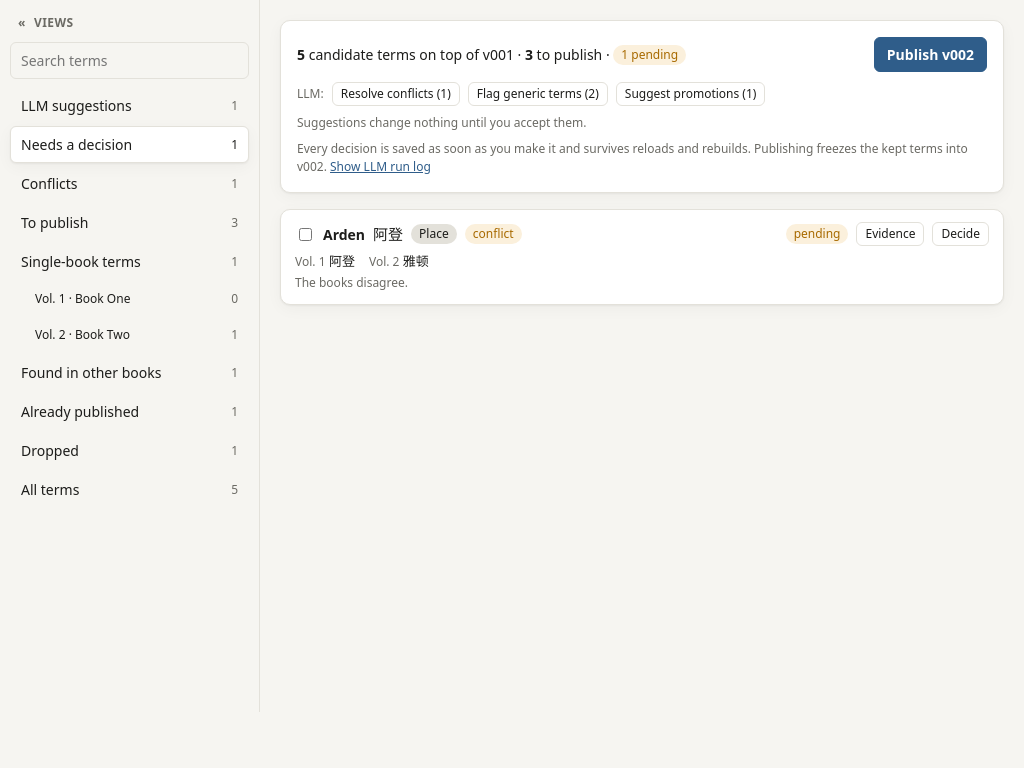
Test case: Series workbench › views › searches the current view by source, ignoring case, or by translation
The image size is (1024, 768).
expect the text "5 candidate terms on top of v001 · 3 to publish · 1 pending" is shown: met, box [297, 44, 686, 65]
Click the button "All terms 5": (130, 490) [10, 471, 249, 508]
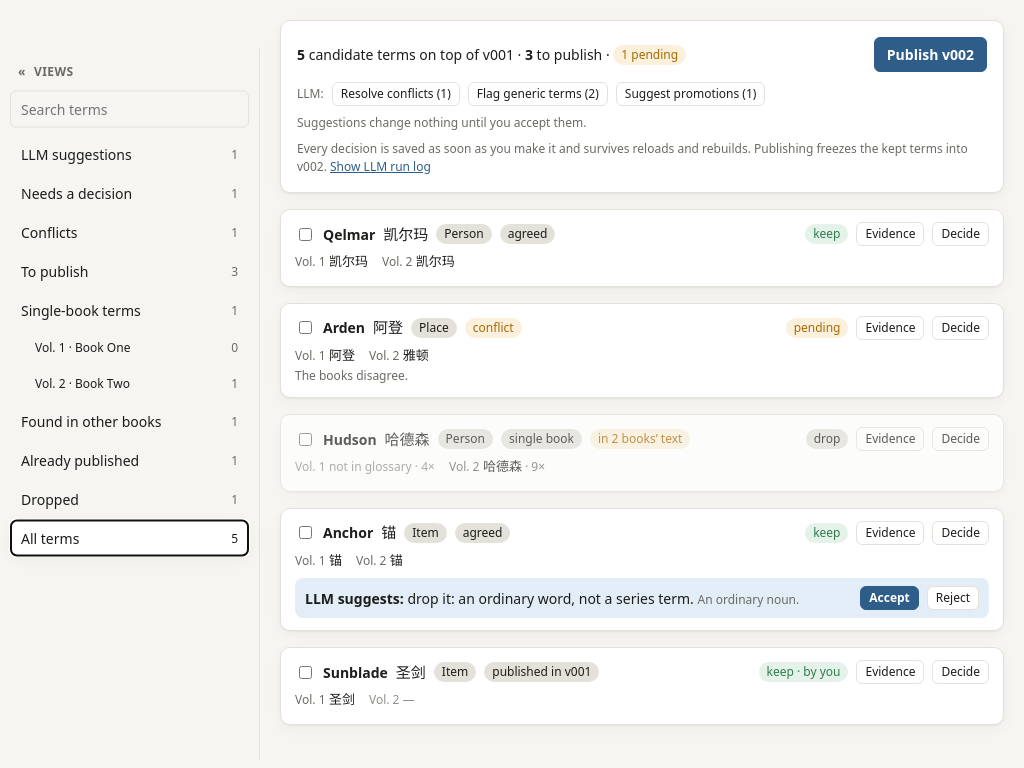
In the field with placeholder "Search terms": (130, 109) [10, 90, 249, 128], type "  qEl "
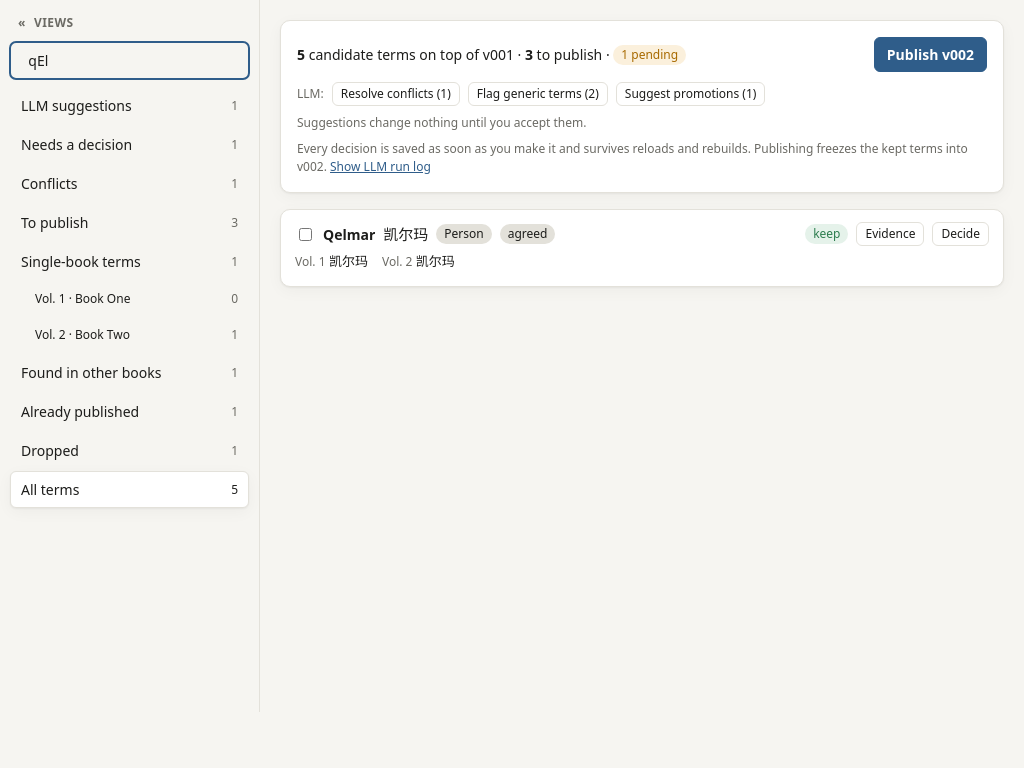
Clear the field with placeholder "Search terms": (130, 60) [10, 42, 249, 79]
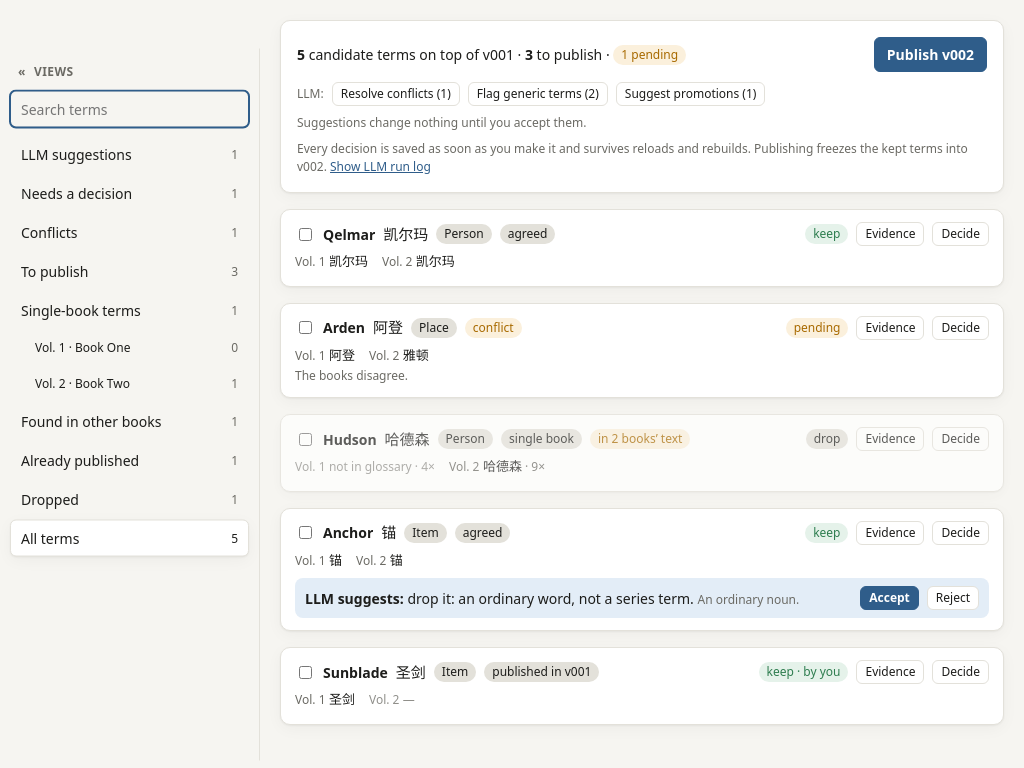
In the field with placeholder "Search terms": (130, 109) [10, 90, 249, 128], type "圣剑"
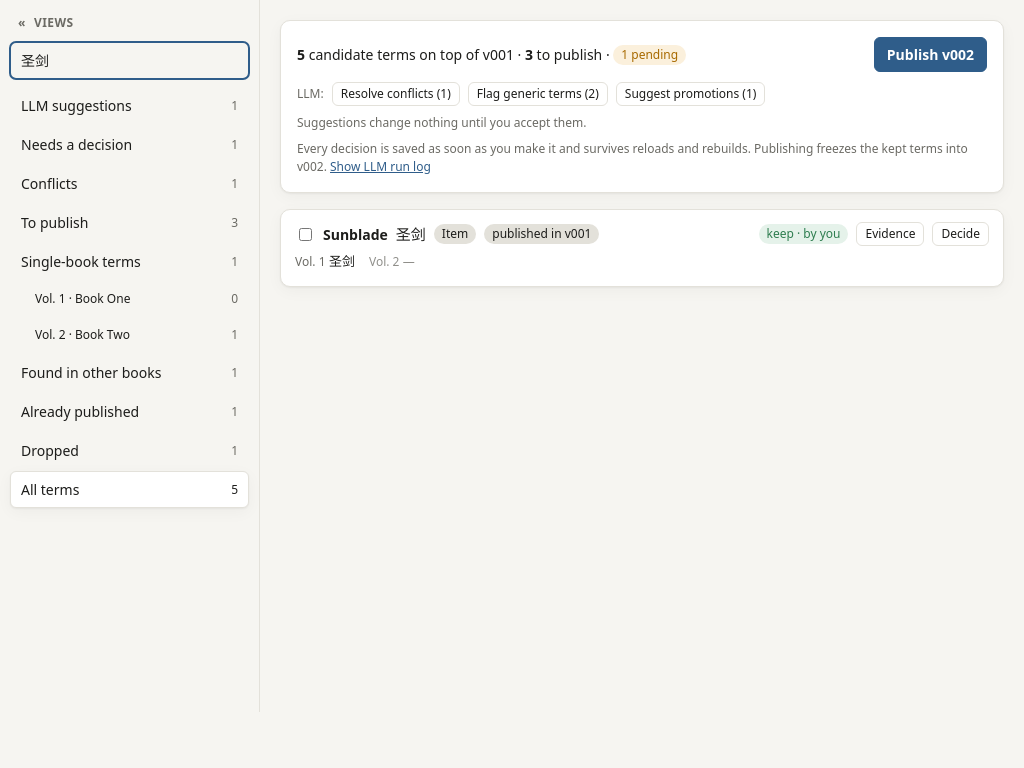
Clear the field with placeholder "Search terms": (130, 60) [10, 42, 249, 79]
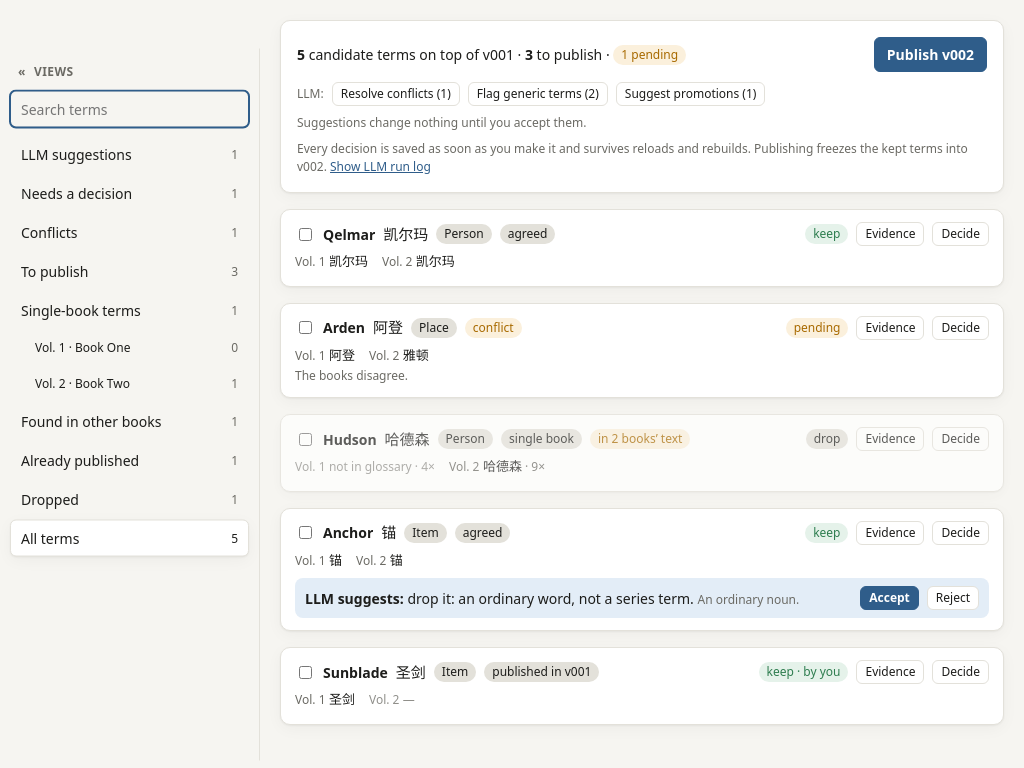
In the field with placeholder "Search terms": (130, 109) [10, 90, 249, 128], type "no such term"
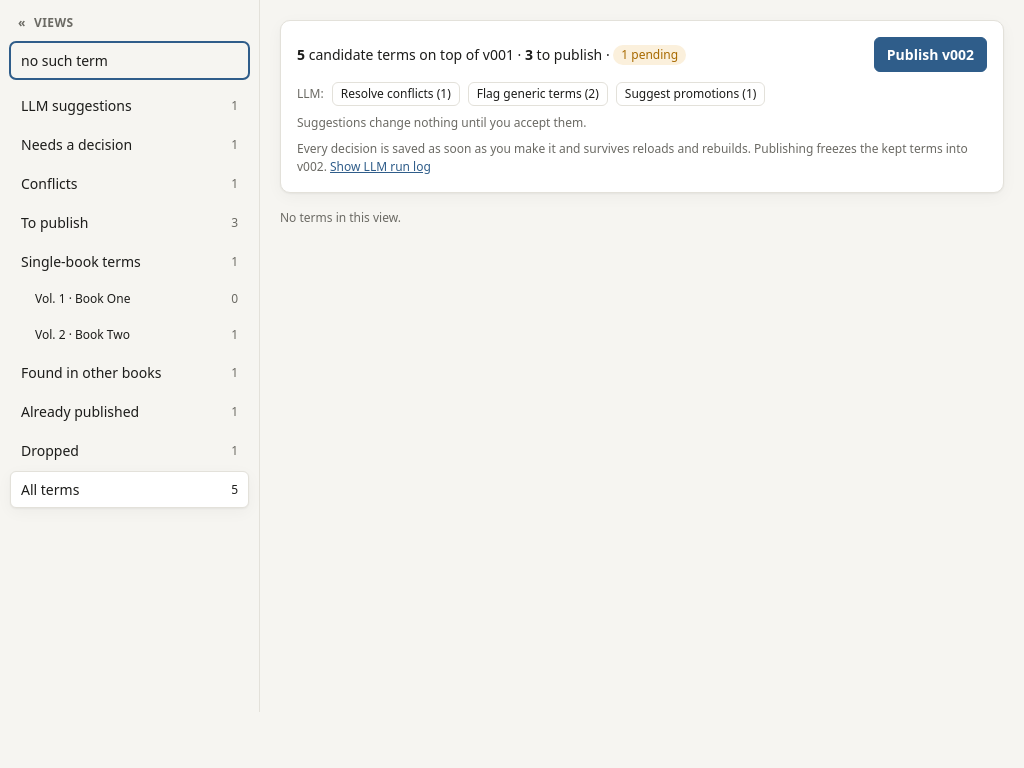
expect the text "No terms in this view." is shown: met, box [280, 209, 401, 226]
